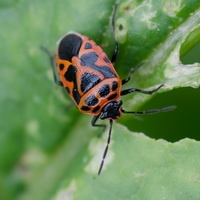insect: (41, 0, 175, 174)
